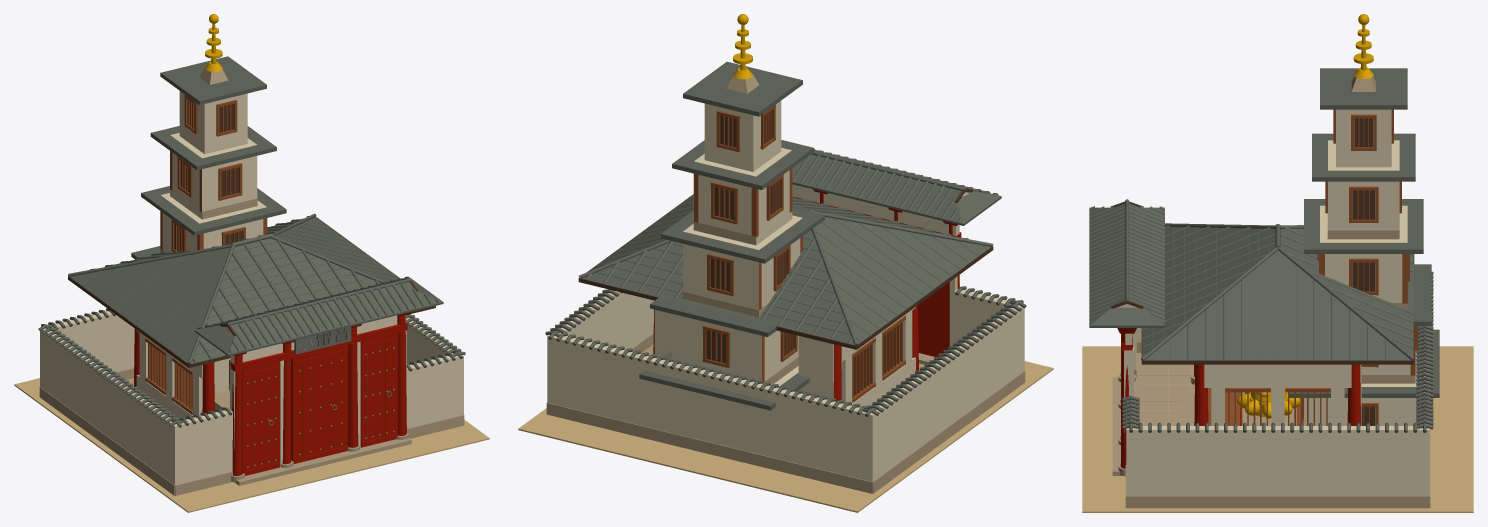
File: xy_xiaoleiyin.glb
3 views of the same model, side by side, from view 1: azimuth 30°, elevation 25°; view 2: azimuth 150°, elevation 25°; view 3: azimuth 270°, elevation 25° (orthographic). The views are drawn at different scales.
Parts seen in each view (by area): view 1: xy_xiaoleiyin; view 2: xy_xiaoleiyin; view 3: xy_xiaoleiyin.
Boxes of the visible parts, left/top/right/bottom form: xy_xiaoleiyin: left=14, top=14, right=489, bottom=512; xy_xiaoleiyin: left=518, top=14, right=1053, bottom=512; xy_xiaoleiyin: left=1082, top=14, right=1473, bottom=512.
Bounding box in the file's own units: 16 × 18.78 × 16.
